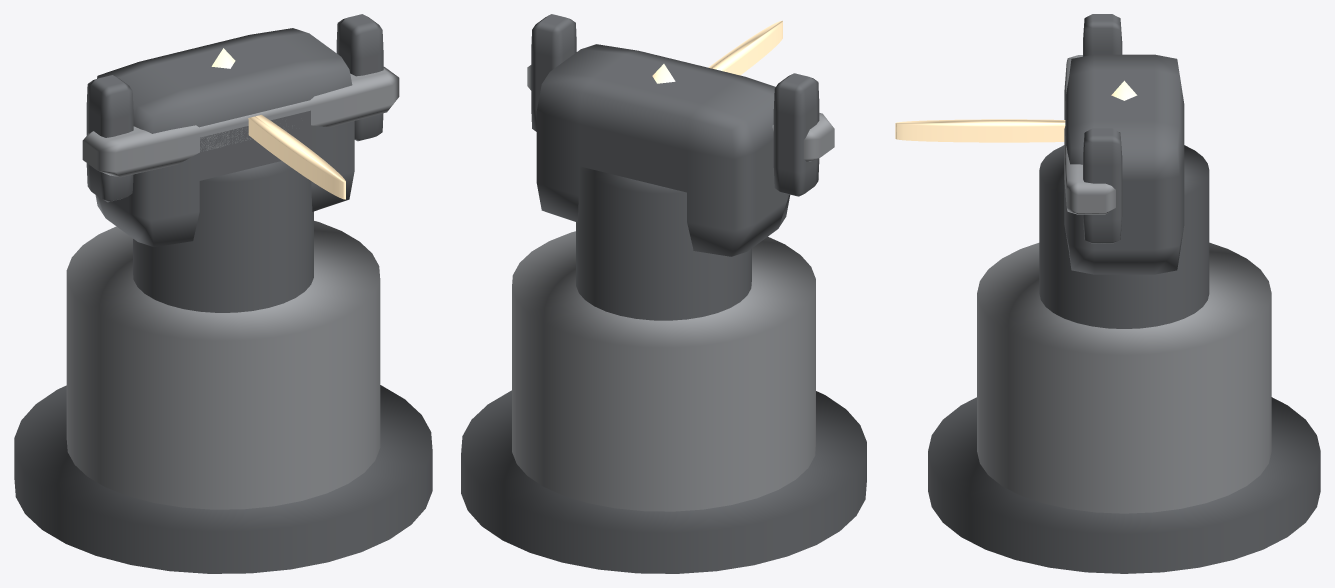
File: ballista_l1.glb
3 renders of one model, left to right at view 1: azimuth 30°, elevation 25°; view 2: azimuth 150°, elevation 25°; view 3: azimuth 270°, elevation 25°, orthographic. The views are drawn at different scales.
Visible parts, largest first — view 1: base, footing, frame, shaft, crossbow, armL, armR, bolt; view 2: base, frame, footing, shaft, armL, armR, bolt, crossbow; view 3: base, footing, frame, shaft, bolt, armR, crossbow, armL.
Boxes of the visible parts, x1=… form: base: x1=66, y1=221, x2=380, y2=509; footing: x1=14, y1=385, x2=432, y2=573; frame: x1=95, y1=28, x2=354, y2=246; shaft: x1=133, y1=161, x2=313, y2=312; crossbow: x1=82, y1=67, x2=399, y2=177; armL: x1=86, y1=75, x2=133, y2=202; armR: x1=336, y1=14, x2=383, y2=141; bolt: x1=248, y1=115, x2=345, y2=199; base: x1=512, y1=231, x2=815, y2=511; frame: x1=536, y1=44, x2=790, y2=256; footing: x1=461, y1=390, x2=866, y2=573; shaft: x1=576, y1=166, x2=751, y2=320; armL: x1=773, y1=73, x2=819, y2=196; armR: x1=531, y1=14, x2=576, y2=131; bolt: x1=708, y1=20, x2=782, y2=75; crossbow: x1=527, y1=65, x2=834, y2=161; base: x1=977, y1=242, x2=1271, y2=513; footing: x1=928, y1=397, x2=1320, y2=573; frame: x1=1064, y1=54, x2=1184, y2=274; shaft: x1=1039, y1=145, x2=1209, y2=328; bolt: x1=895, y1=119, x2=1065, y2=142; armR: x1=1083, y1=128, x2=1122, y2=243; crossbow: x1=1064, y1=55, x2=1115, y2=214; armL: x1=1083, y1=14, x2=1122, y2=56.
Bounding box in the file's own units: 1.8 × 2.1 × 1.95.
